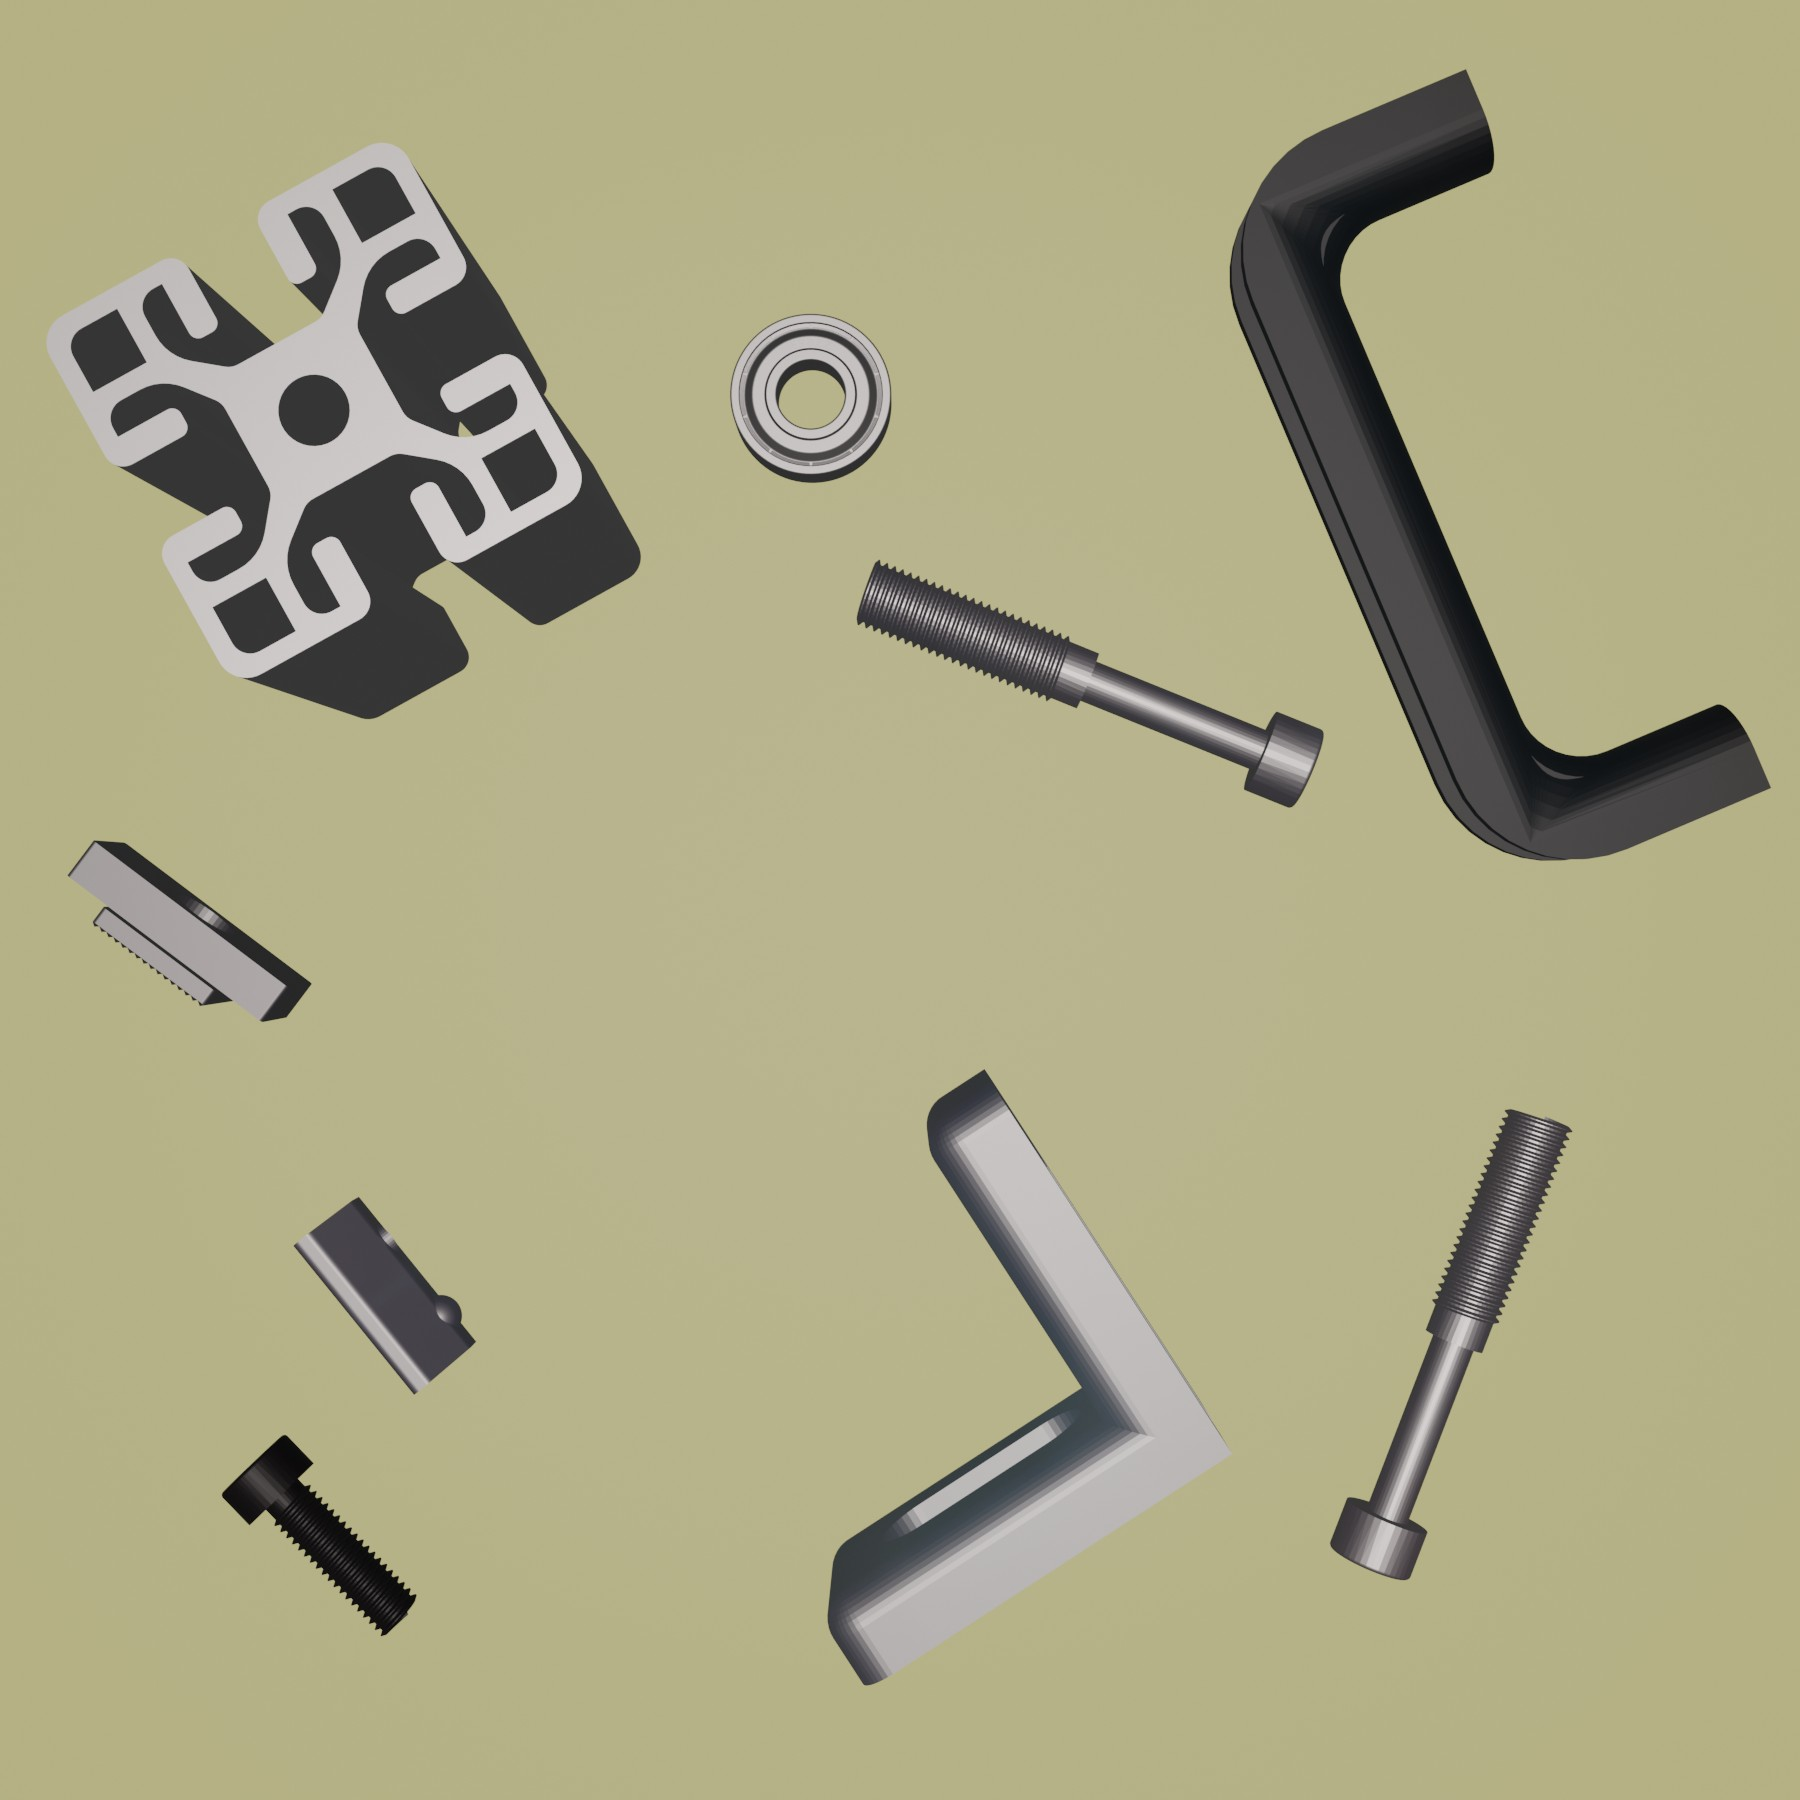Aluminium Extension: (43, 142, 643, 724)
Ball Bearing: (727, 308, 893, 486)
Multiwinkel: (824, 1066, 1238, 1688)
Pull Handle: (1225, 64, 1774, 864)
Shoulder Socket Head Cap Screw: (854, 559, 1325, 809), (1329, 1103, 1569, 1584)
Socket Head Cap Screw: (218, 1431, 417, 1642)
T Nut Square: (63, 836, 313, 1024)
T Spring Nut: (288, 1193, 478, 1401)
